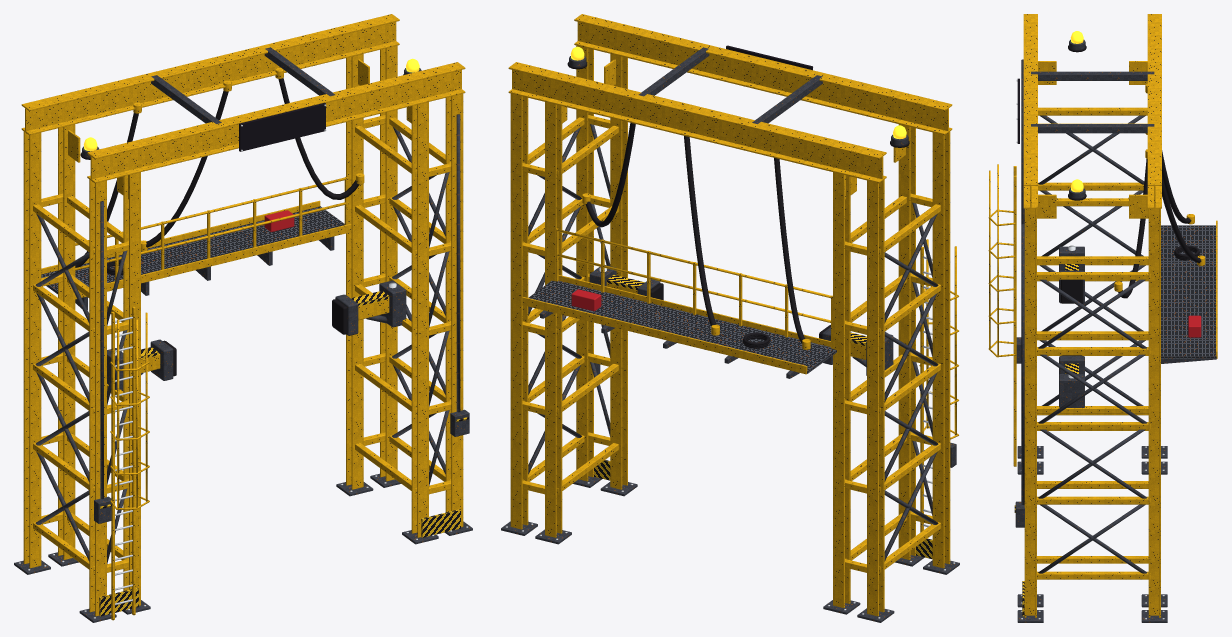
Rendered from x_lobby_gantry.glb.
3 renders of one model, left to right at view 1: azimuth 30°, elevation 25°; view 2: azimuth 150°, elevation 25°; view 3: azimuth 270°, elevation 25°, orthographic. The views are drawn at different scales.
Parts seen in each view (by area): view 1: gantry, arm_R, arm_L; view 2: gantry, arm_R, arm_L; view 3: gantry, arm_L, arm_R.
Boxes of the visible parts, bbox=[...] form: gantry: bbox=[14, 14, 472, 622]; arm_R: bbox=[332, 282, 396, 335]; arm_L: bbox=[115, 339, 176, 380]; gantry: bbox=[501, 14, 959, 622]; arm_R: bbox=[599, 267, 663, 300]; arm_L: bbox=[819, 325, 866, 366]; gantry: bbox=[988, 14, 1217, 622]; arm_L: bbox=[1059, 245, 1084, 303]; arm_R: bbox=[1059, 355, 1084, 378].
Size of the model in its own units: 8.02 by 9.34 by 4.43.
9 materials, 4 textured.
